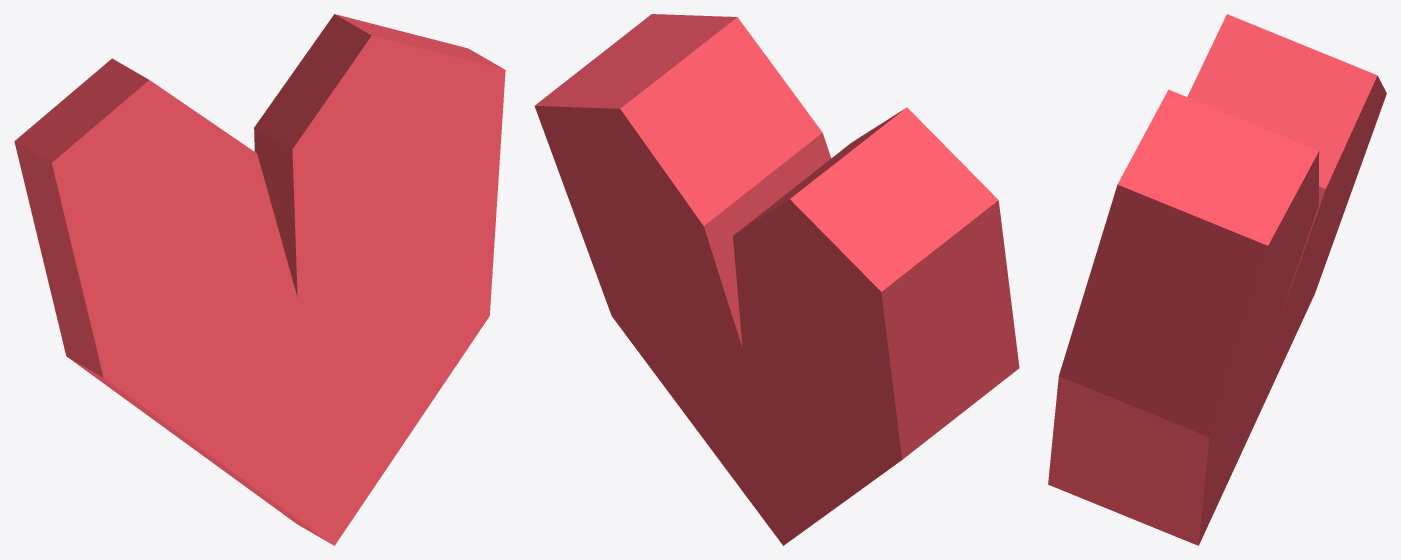
Rendered from heart.glb.
3 views of the same model, side by side, from view 1: azimuth 30°, elevation 25°; view 2: azimuth 150°, elevation 25°; view 3: azimuth 270°, elevation 25° (orthographic). The views are drawn at different scales.
Visible parts, largest first — view 1: Cube; view 2: Cube; view 3: Cube.
Boxes of the visible parts, left/top/right/bottom form: Cube: left=14, top=14, right=505, bottom=545; Cube: left=534, top=14, right=1019, bottom=545; Cube: left=1048, top=14, right=1386, bottom=545.
Size of the model in its own units: 2.13 by 2.29 by 1.45.
